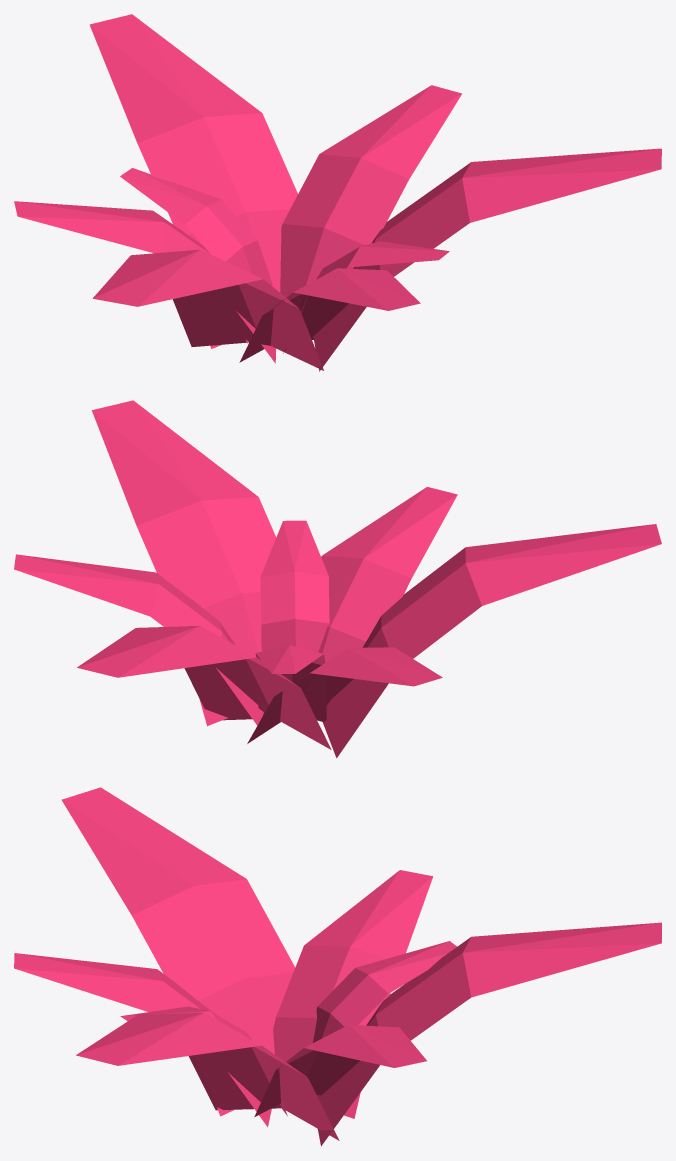
The model's file is plant.dae.
The picture shows the model from 3 angles, top to bottom: view 1: azimuth 30°, elevation 25°; view 2: azimuth 150°, elevation 25°; view 3: azimuth 270°, elevation 25°; orthographic projection. The views are drawn at different scales.
Visible parts, largest first — view 1: Plane; view 2: Plane; view 3: Plane.
Part boxes in pixels (<box>): Plane: <box>14,14,661,371</box>; Plane: <box>14,400,661,758</box>; Plane: <box>14,787,661,1146</box>.
Size of the model in its own units: 4.58 by 4.46 by 1.44.
Materials: 1 (1 with a texture image).
